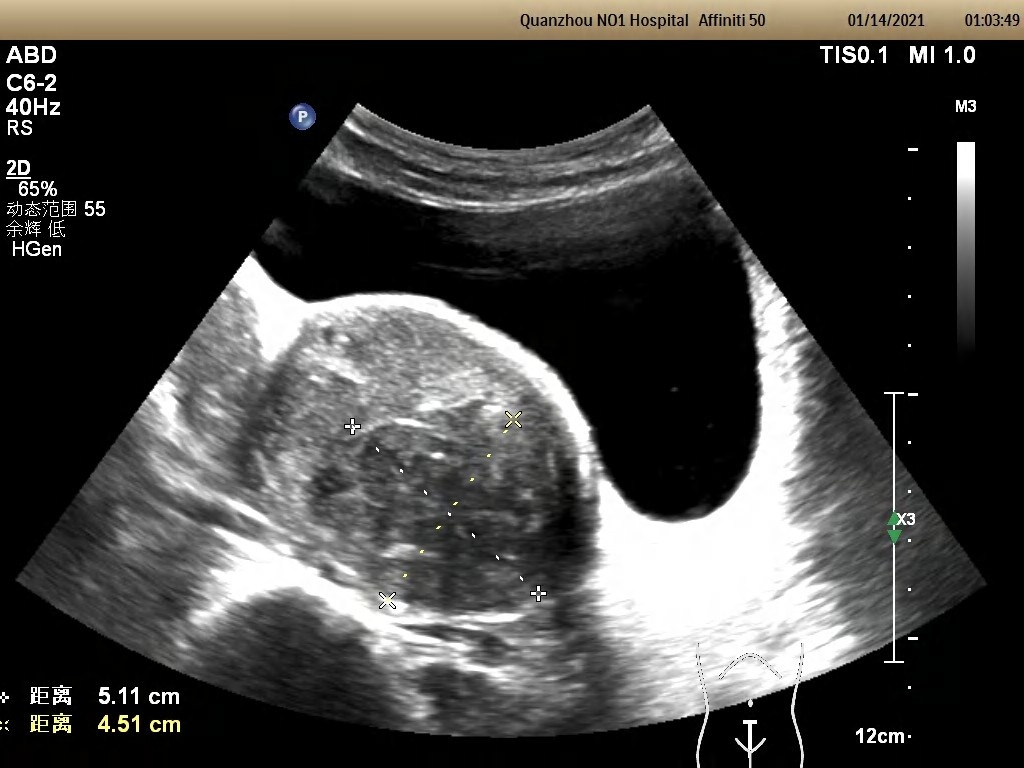肌瘤: (351, 419, 546, 607)
